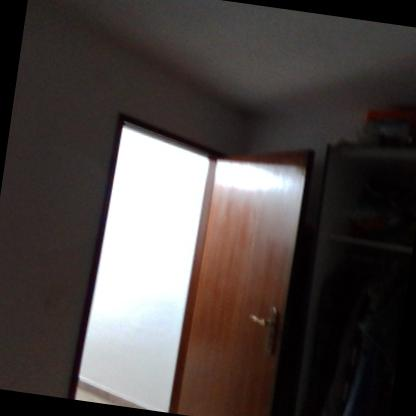open: (50, 108, 328, 415)
